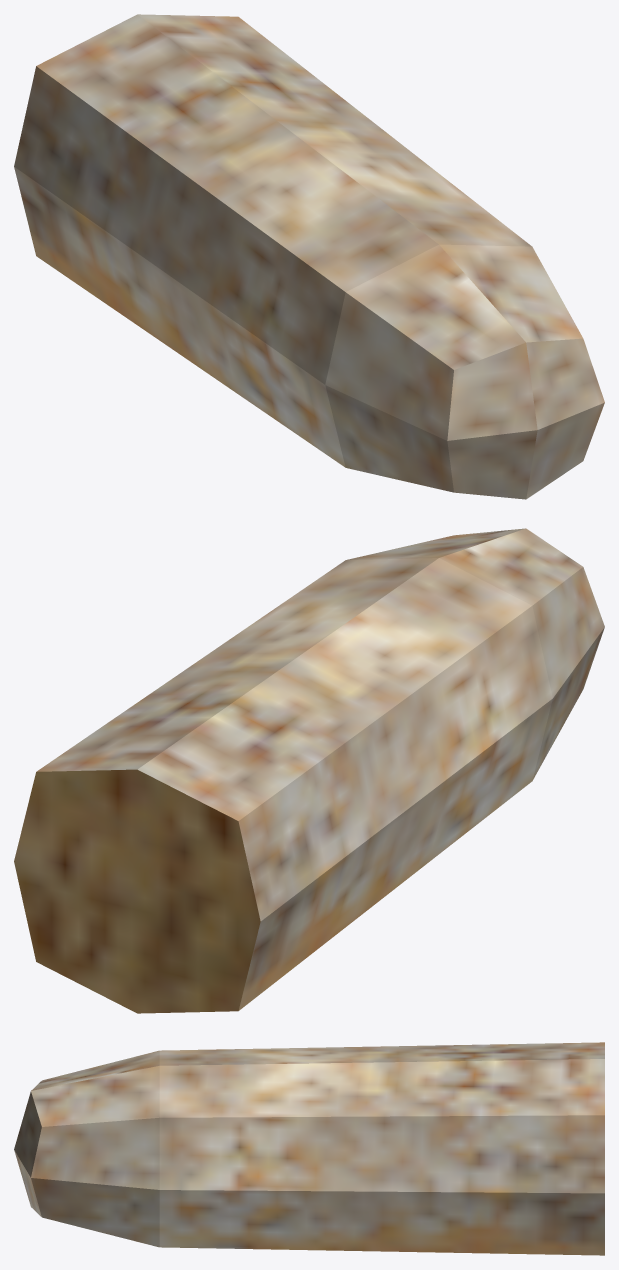
File: oatveil_roll_half.fbx
3 renders of one model, top to bottom at view 1: azimuth 30°, elevation 25°; view 2: azimuth 150°, elevation 25°; view 3: azimuth 270°, elevation 25°, orthographic. The views are drawn at different scales.
Visible parts, largest first — view 1: oatveil roll half; view 2: oatveil roll half; view 3: oatveil roll half.
Boxes of the visible parts, left/top/right/bottom form: oatveil roll half: left=14, top=14, right=604, bottom=499; oatveil roll half: left=14, top=528, right=604, bottom=1013; oatveil roll half: left=14, top=1042, right=604, bottom=1255.
Bounding box in the file's own units: 0.2082 × 0.5853 × 0.1968.
